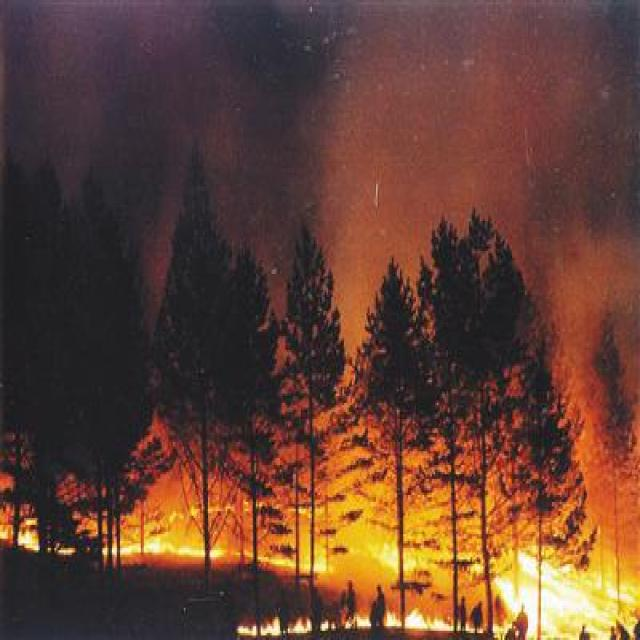fire: (5, 423, 600, 635)
